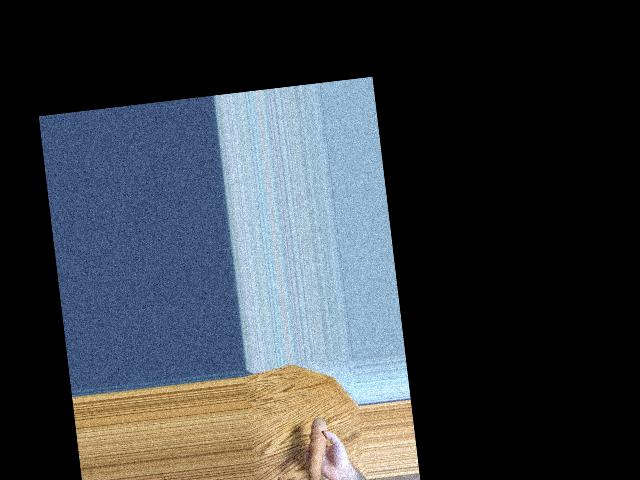sweet_potato: (301, 412, 330, 480)
